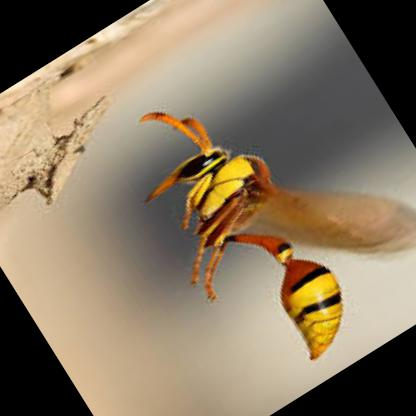other: (89, 18, 415, 401)
